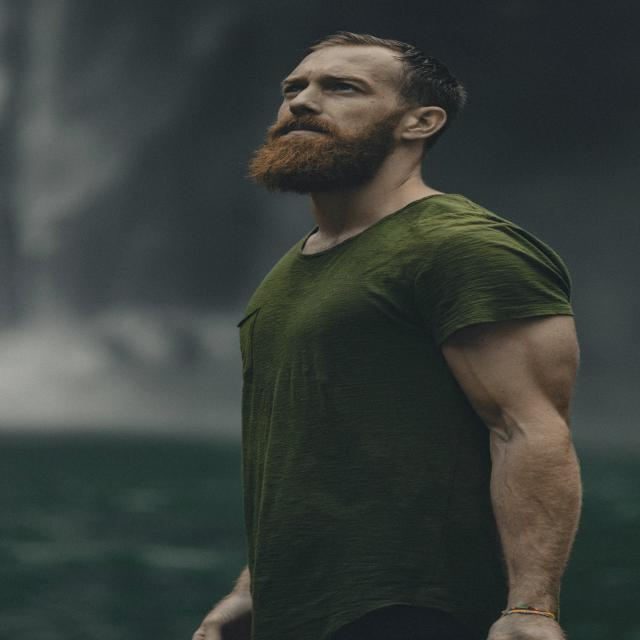adult: (203, 31, 576, 640)
